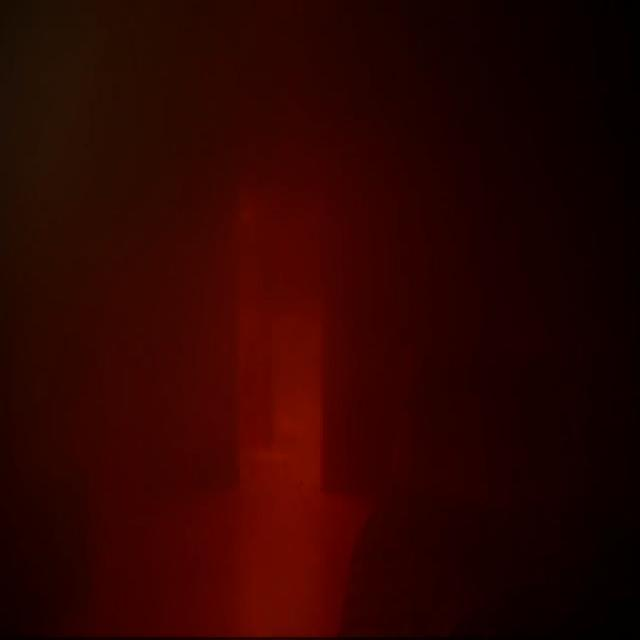Smoke: (63, 17, 500, 320)
